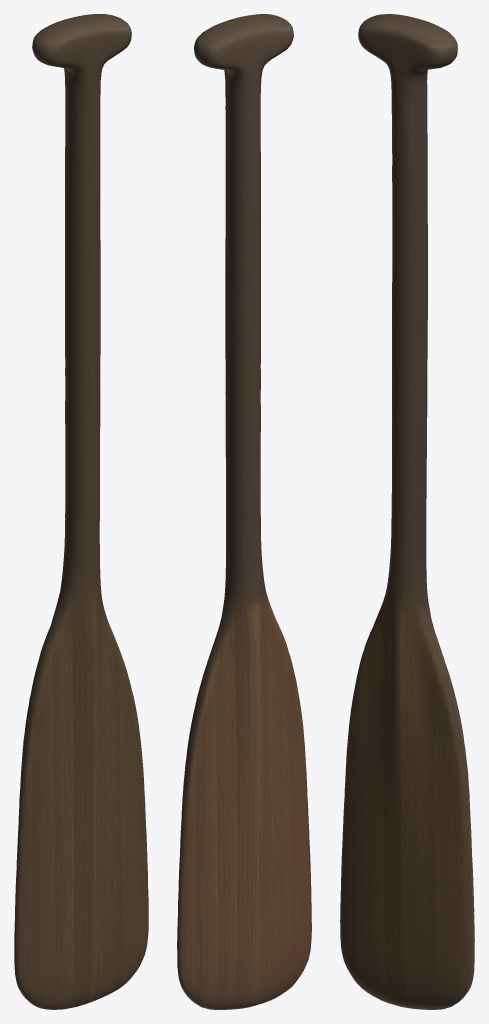
Rendered from paddle_silence.glb.
3 renders of one model, left to right at view 1: azimuth 30°, elevation 25°; view 2: azimuth 210°, elevation 25°; view 3: azimuth 330°, elevation 25°, orthographic.
Visible parts, largest first — view 1: Object_4; view 2: Object_4; view 3: Object_4.
Part boxes in pixels (x1=…): Object_4: x1=14, y1=14, x2=148, y2=1009; Object_4: x1=177, y1=14, x2=311, y2=1009; Object_4: x1=340, y1=14, x2=474, y2=1009.
Bounding box in the file's own units: 0.2701 × 1.91 × 0.0768.
Materials: 1 (1 with a texture image).
